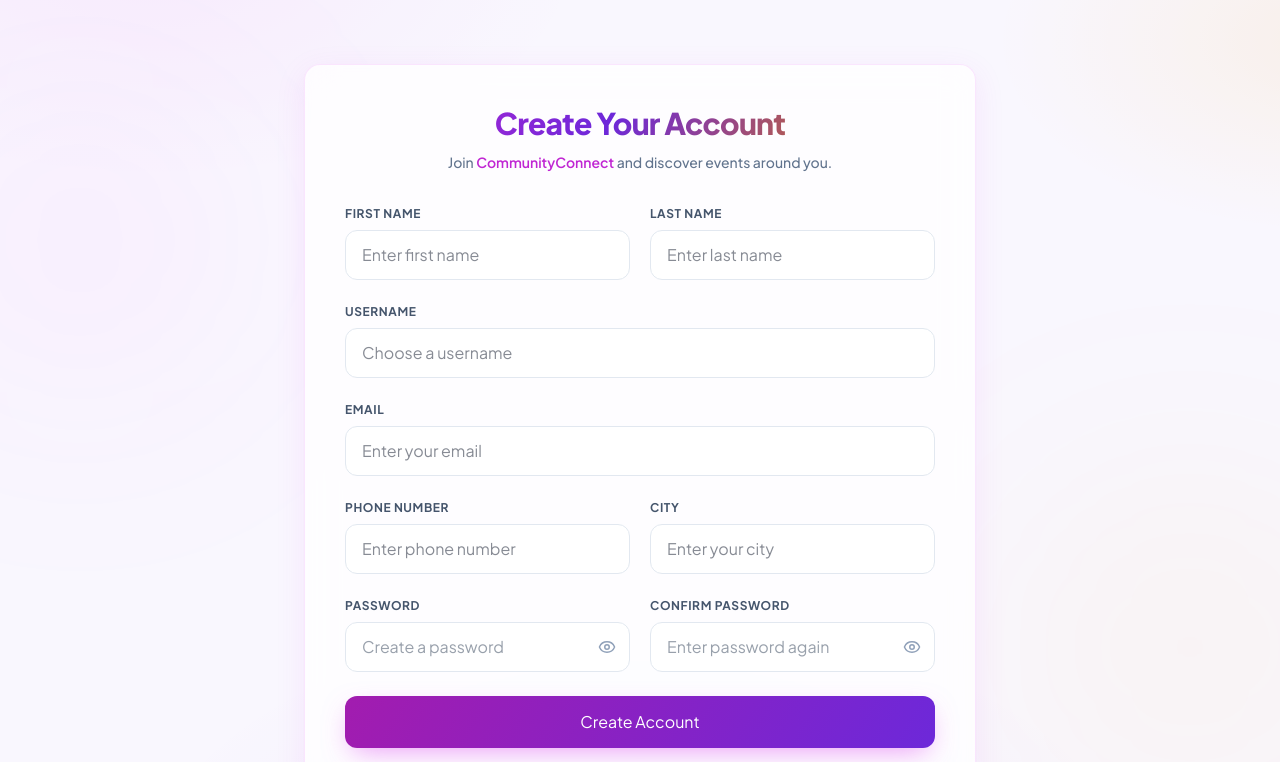
Register › falls back to a generic message for empty payloads
Type "Alice" into the field labelled "First Name". click: (488, 255)
box: [345,230,630,280]
Type "Smith" into the field labelled "Last Name". click: (792, 255)
box: [650,230,935,280]
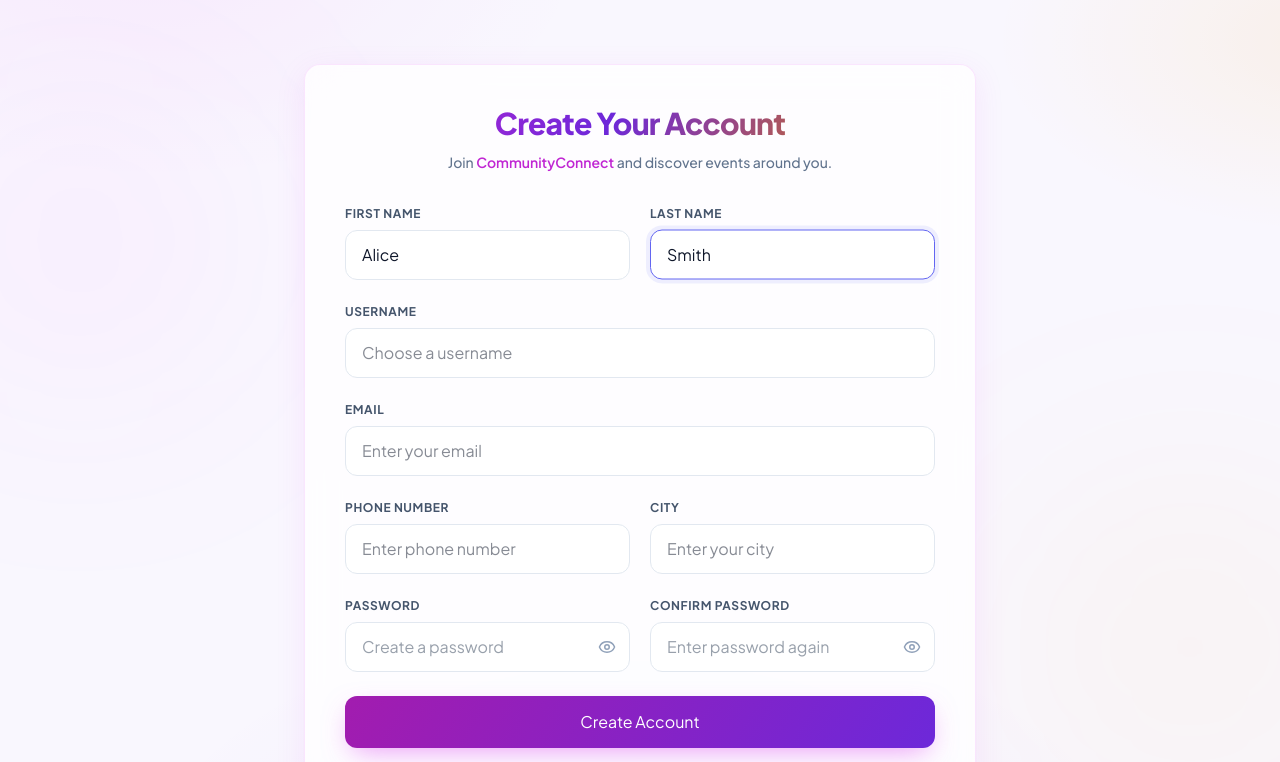
Type "alice" into the field labelled "Username". click: (640, 353)
box: [345,328,935,378]
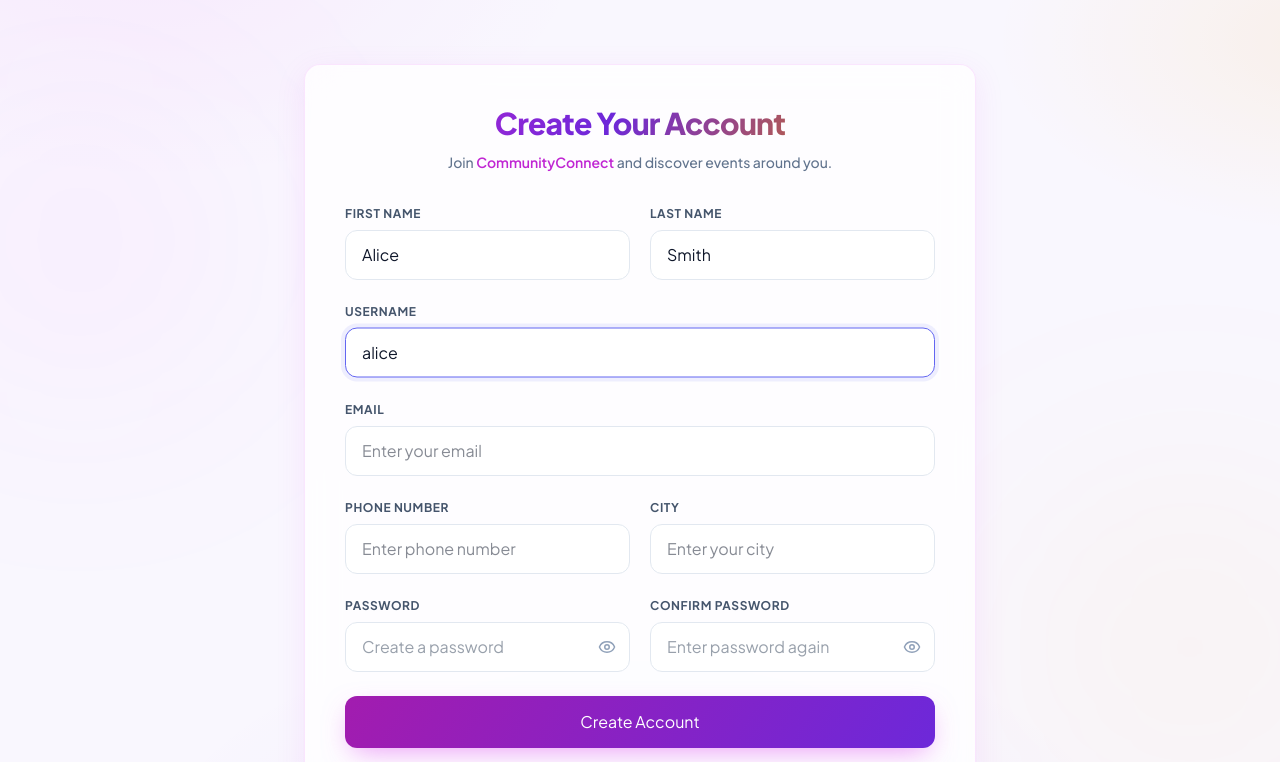
Type "alice@example.com" into the field labelled "Email". click: (640, 451)
box: [345,426,935,476]
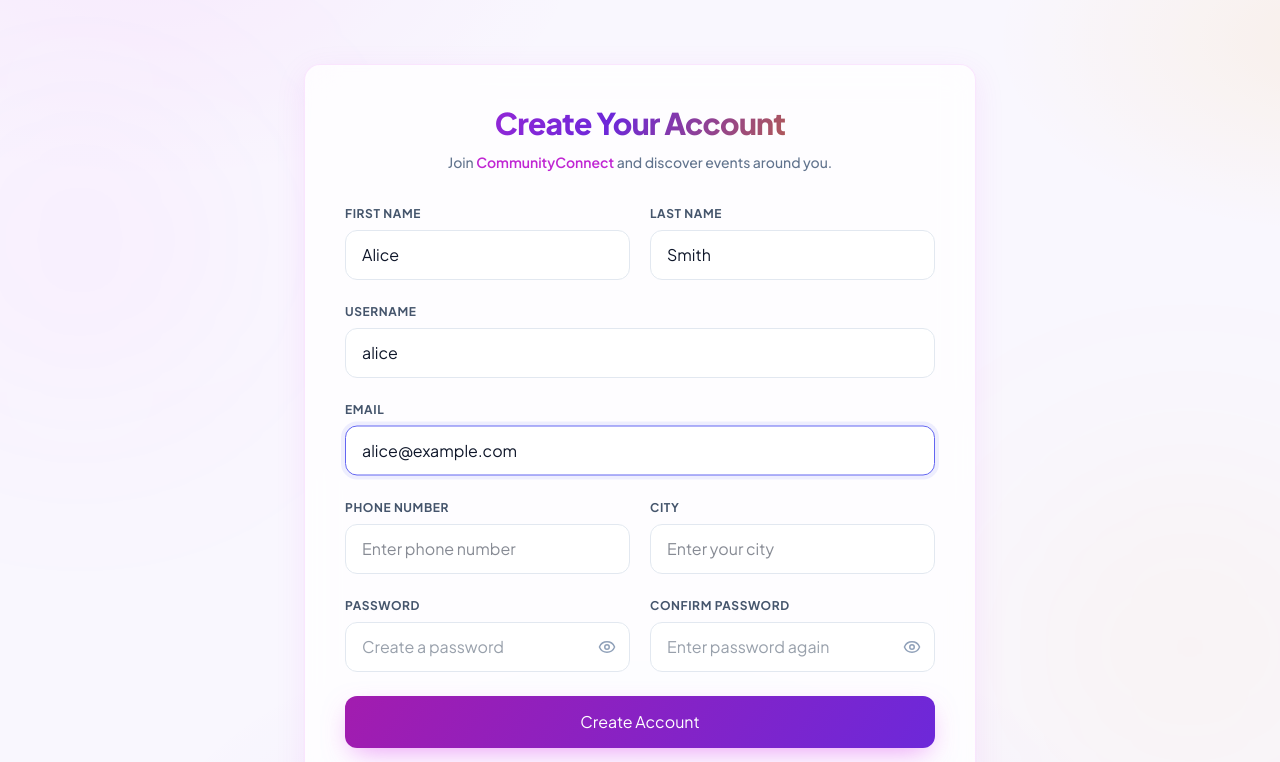
Type "StrongPass123" into the password field labelled "Password". click: (488, 647)
box: [345,622,630,672]
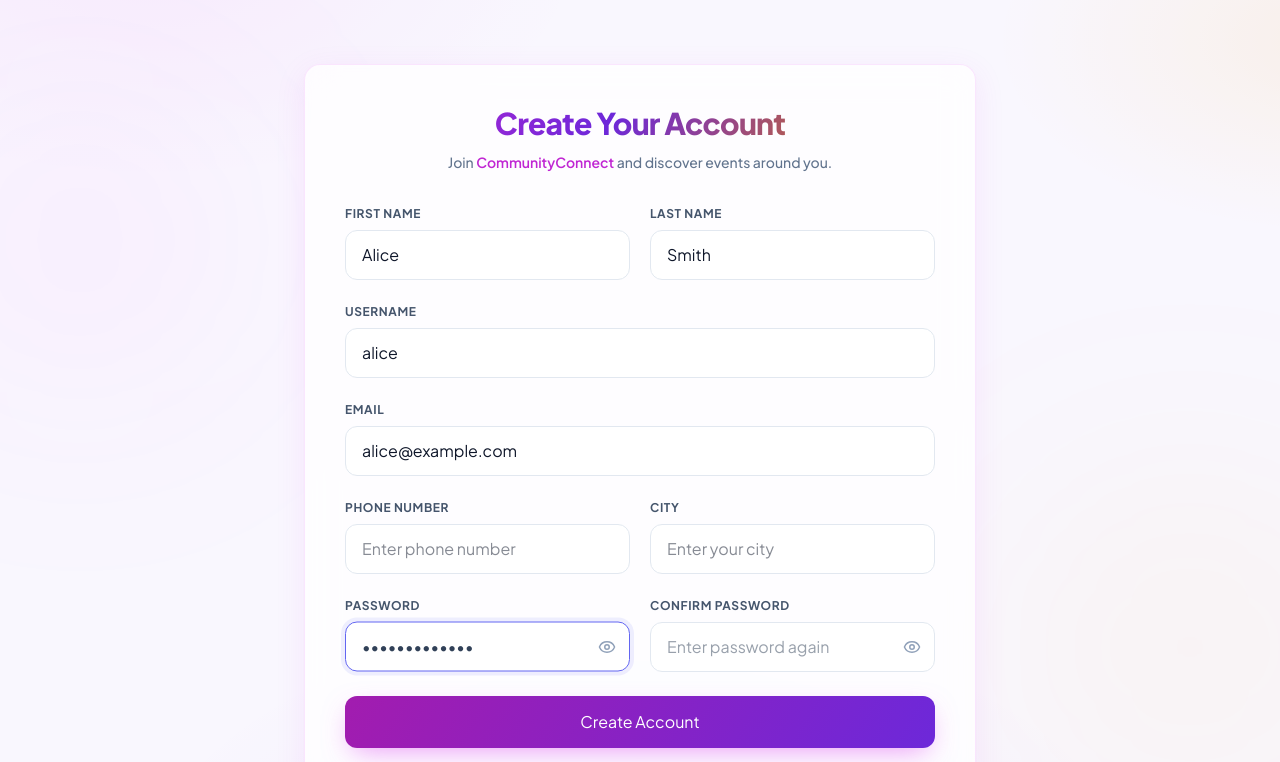
Type "StrongPass123" into the password field labelled "Confirm Password". click: (792, 647)
box: [650,622,935,672]
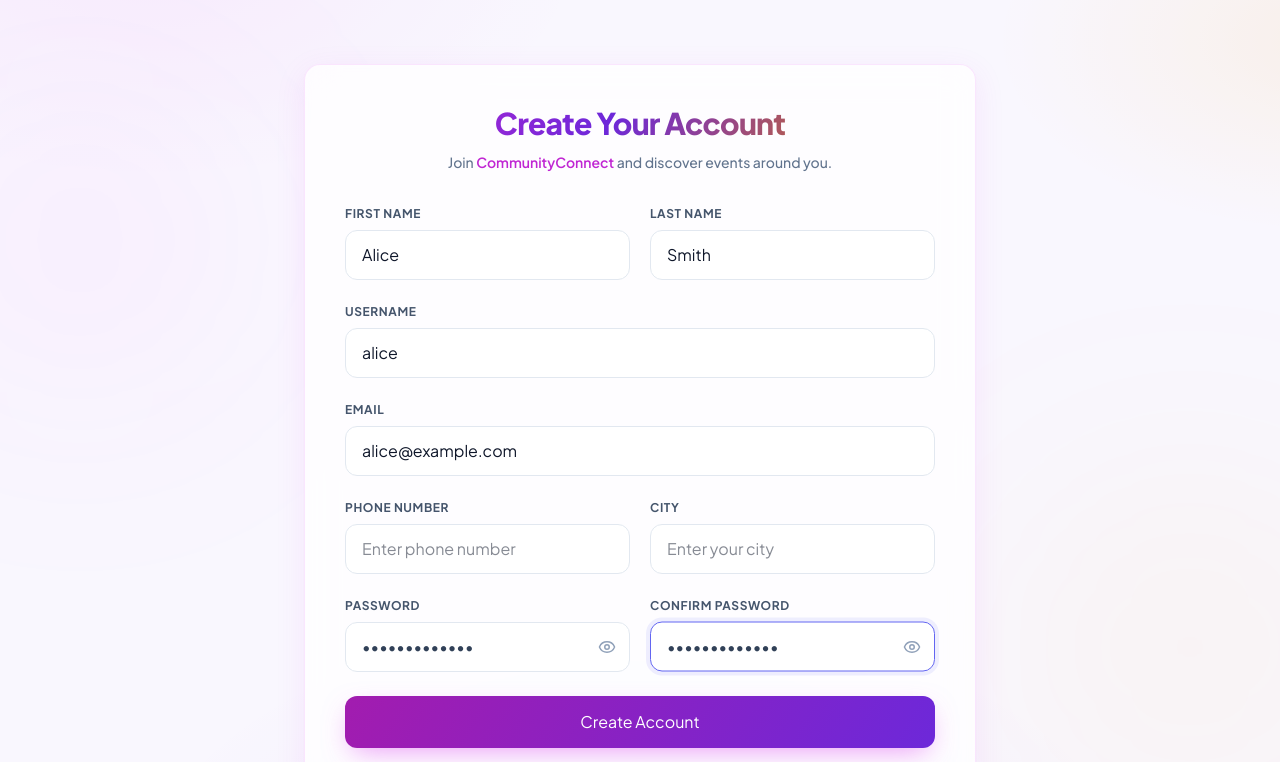
Click the button "Create Account". click: click(640, 722)
box: [345,696,935,748]
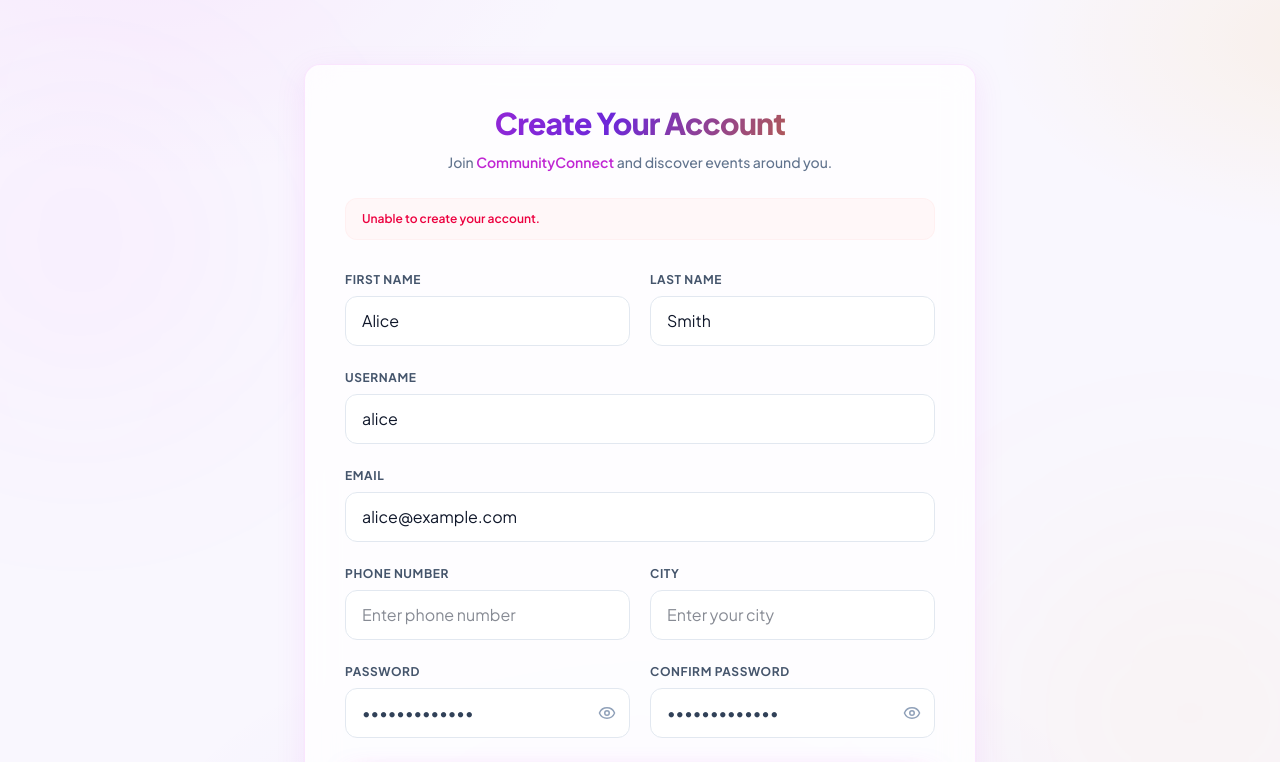
expect the text "Unable to create your account." is shown: met, box [345,198,935,240]
